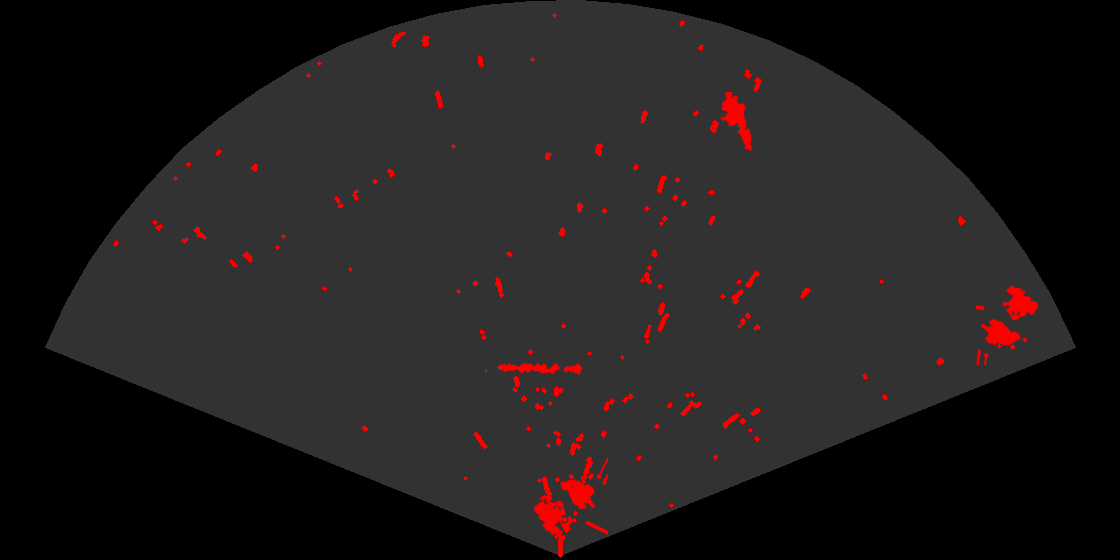cage: (532, 456, 608, 537), (976, 284, 1040, 365)
chain: (483, 362, 584, 376)
frogman: (719, 92, 754, 151)
